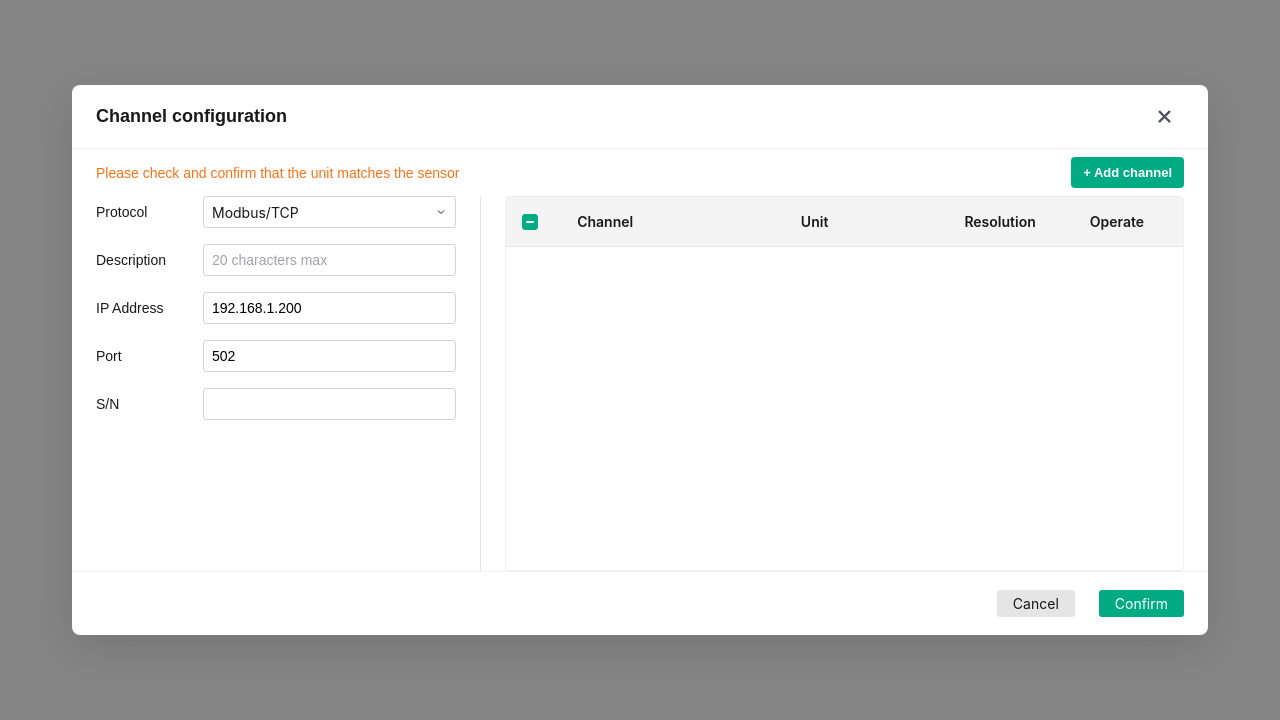
Test case: SensorConfigModal › validates duplicate IP address only for Modbus/TCP sensors
Click the button with class "btn-confirm".
click(1141, 604)  # box left=1099, top=590, right=1184, bottom=617
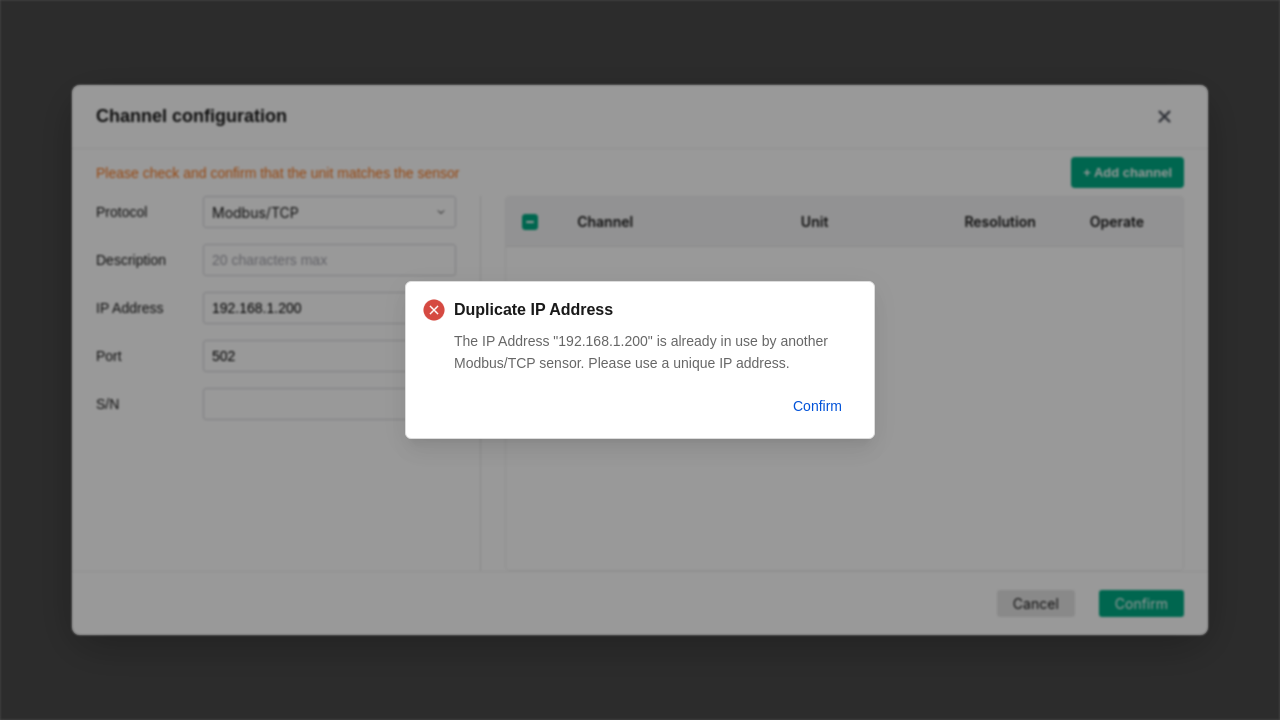
Expected: the text "Duplicate IP Address" is shown, left=454, top=301, right=613, bottom=318
Expected: the text "The IP Address \"192.168.1.200\" is already in use by another Modbus/TCP" is shown, left=454, top=333, right=828, bottom=371
